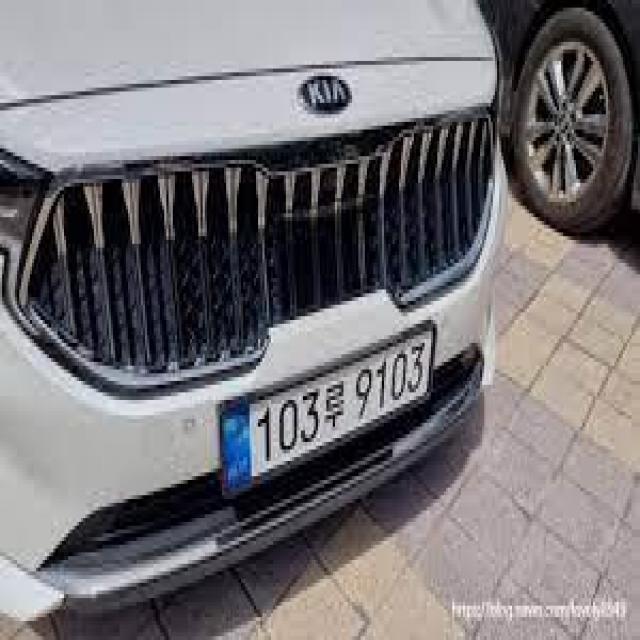illegal_plate: (217, 324, 437, 493)
